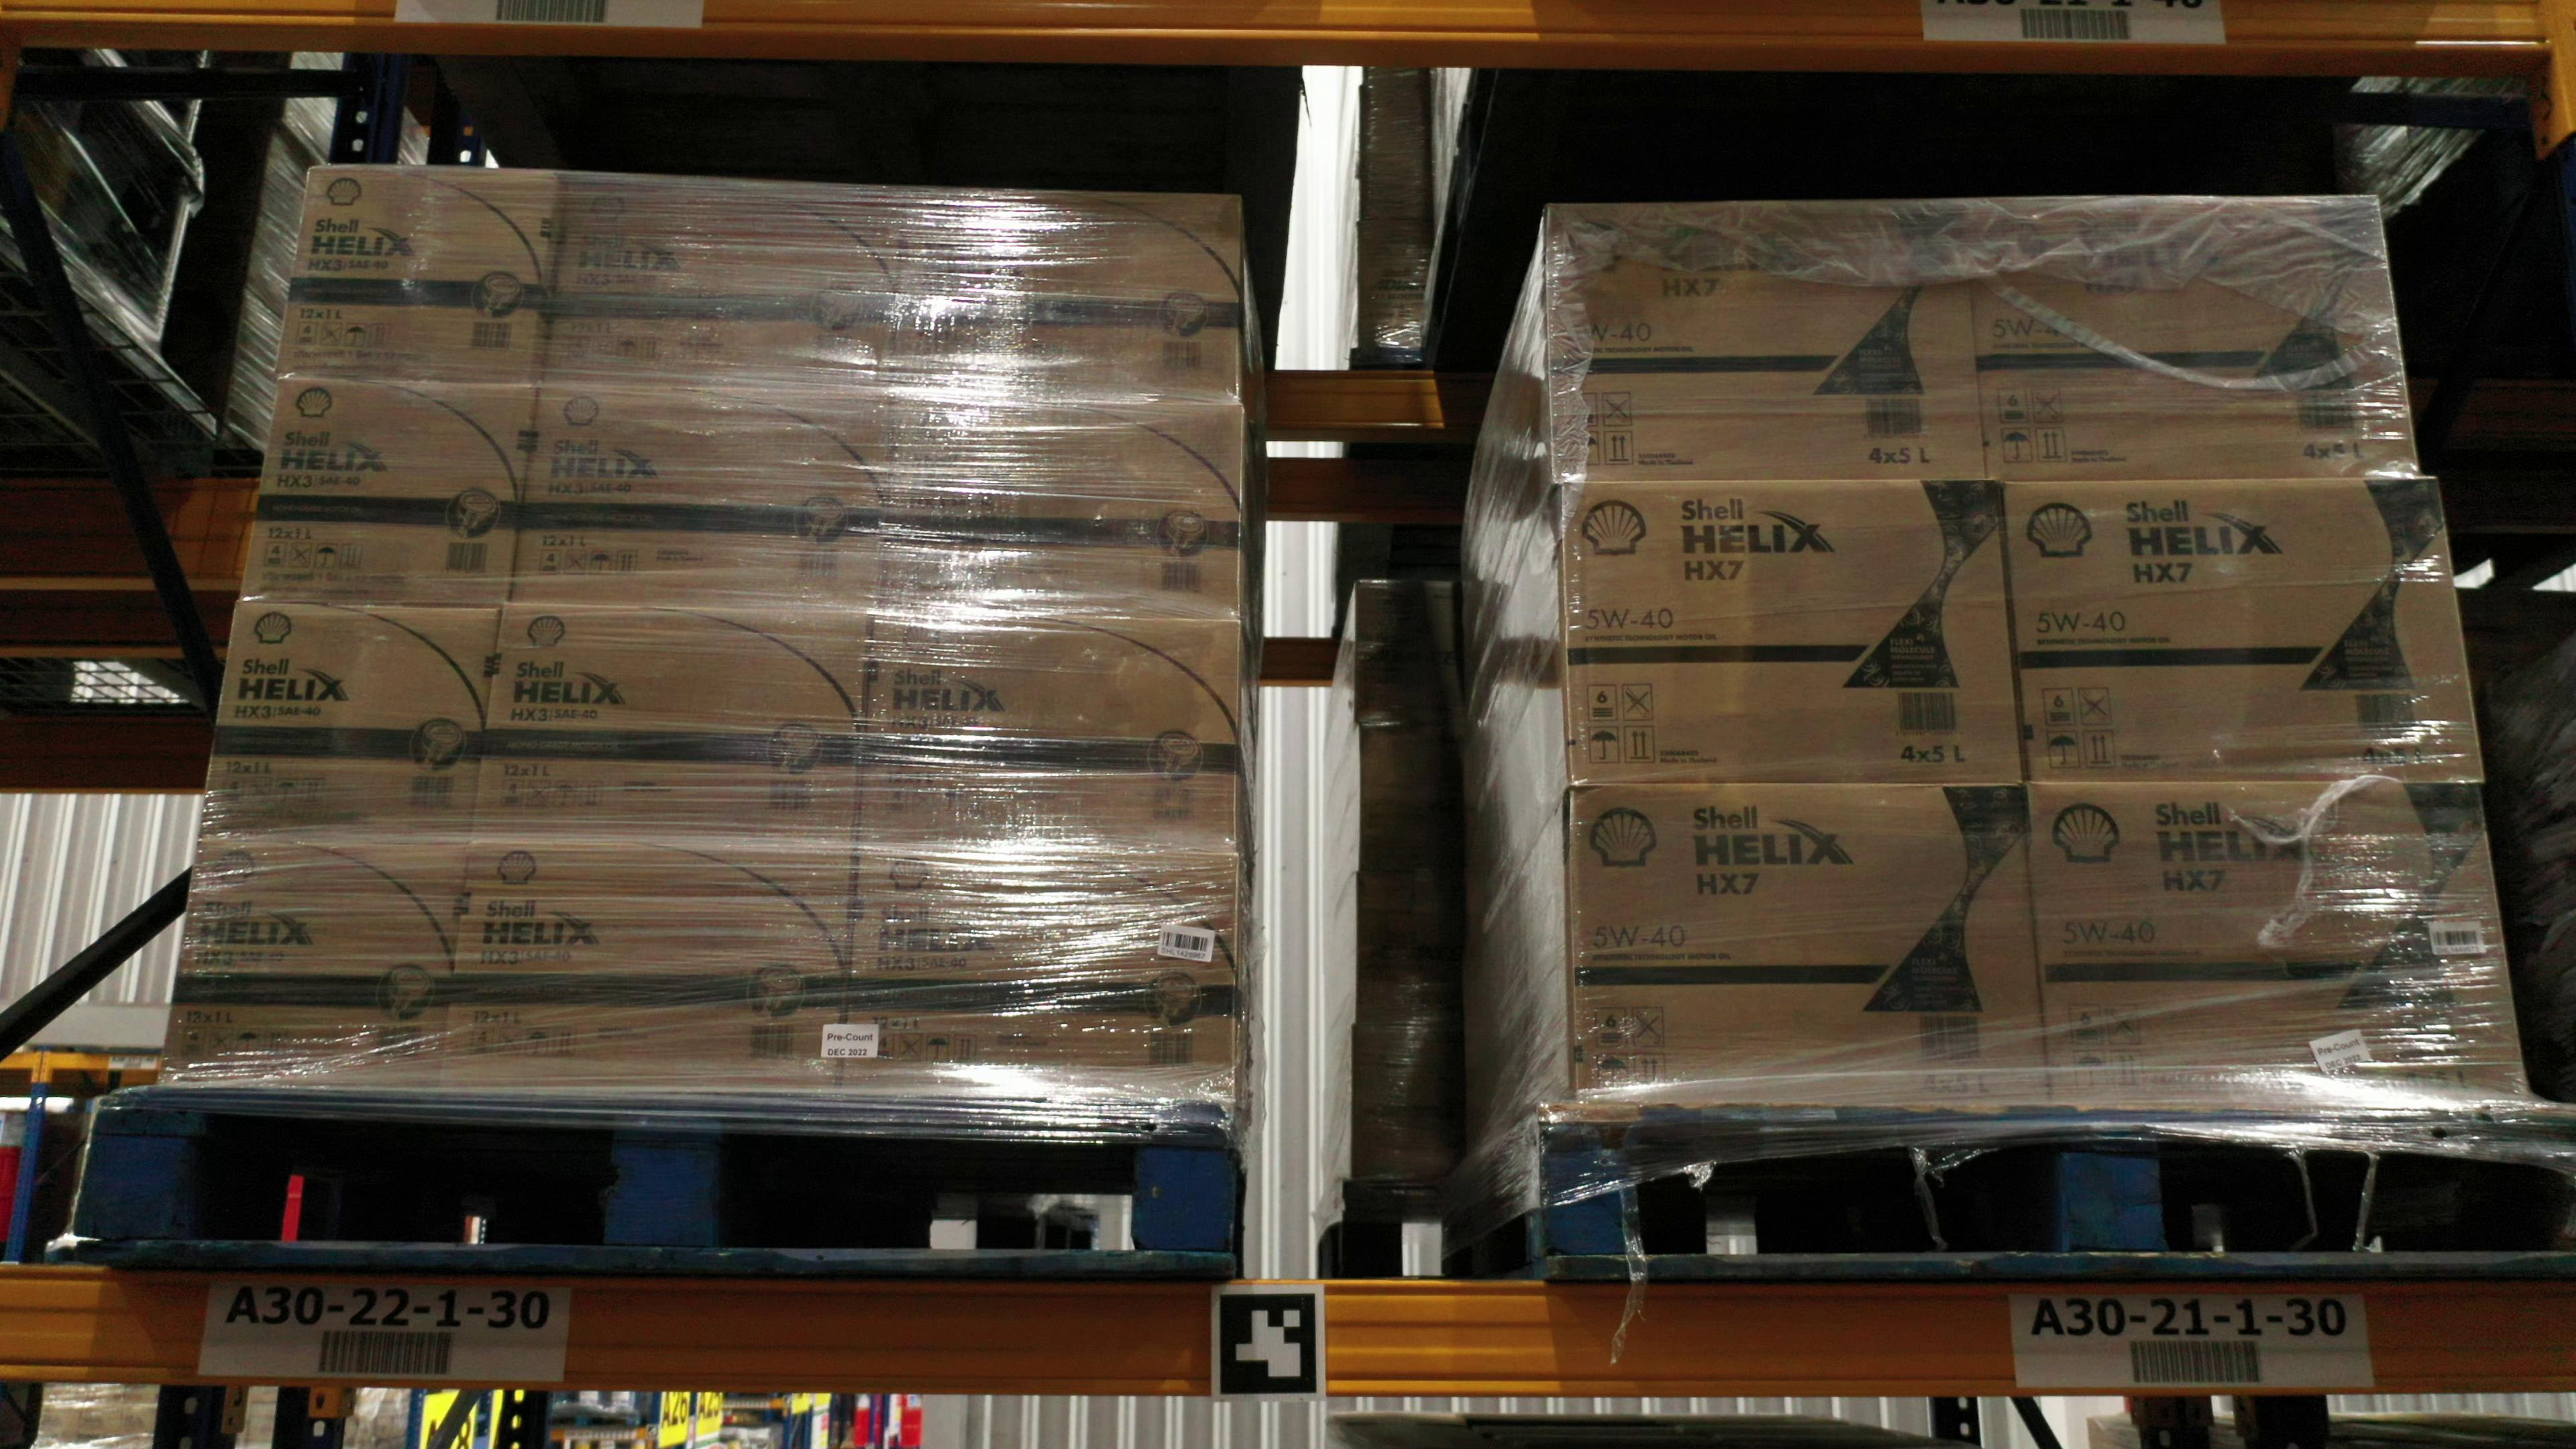-: (2026, 778, 2534, 1109), (1566, 777, 2051, 1108), (2003, 478, 2486, 782), (1560, 478, 2024, 786), (1545, 195, 1990, 485), (1967, 193, 2420, 478), (441, 840, 856, 1095), (840, 847, 1240, 1108), (467, 602, 870, 853), (856, 610, 1238, 856), (508, 379, 890, 617), (872, 396, 1244, 625), (147, 833, 474, 1092), (536, 172, 904, 398), (890, 188, 1240, 407), (202, 603, 501, 846), (239, 372, 541, 609), (278, 161, 566, 384)
